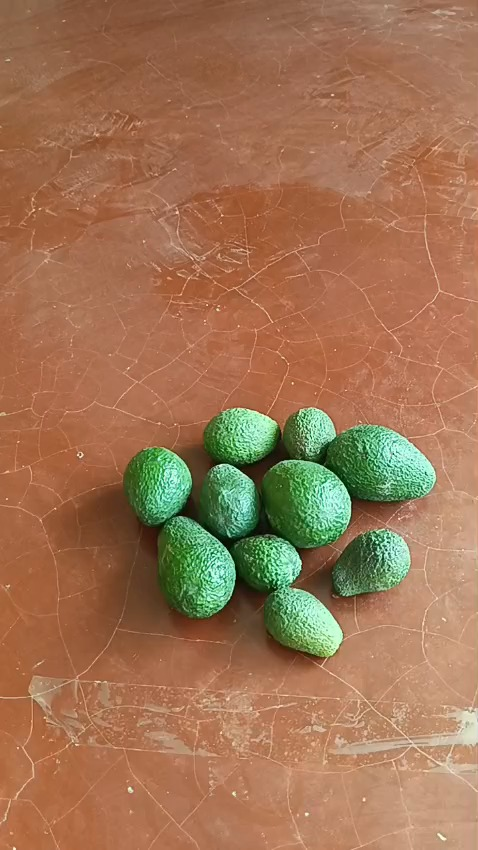Primera: (323, 424, 435, 501), (155, 514, 236, 618), (260, 459, 352, 547)
Segunda: (122, 446, 192, 526)
Tercera: (262, 583, 343, 657), (330, 527, 411, 596), (196, 461, 261, 540), (202, 408, 280, 466), (230, 534, 302, 592), (281, 407, 338, 462)
